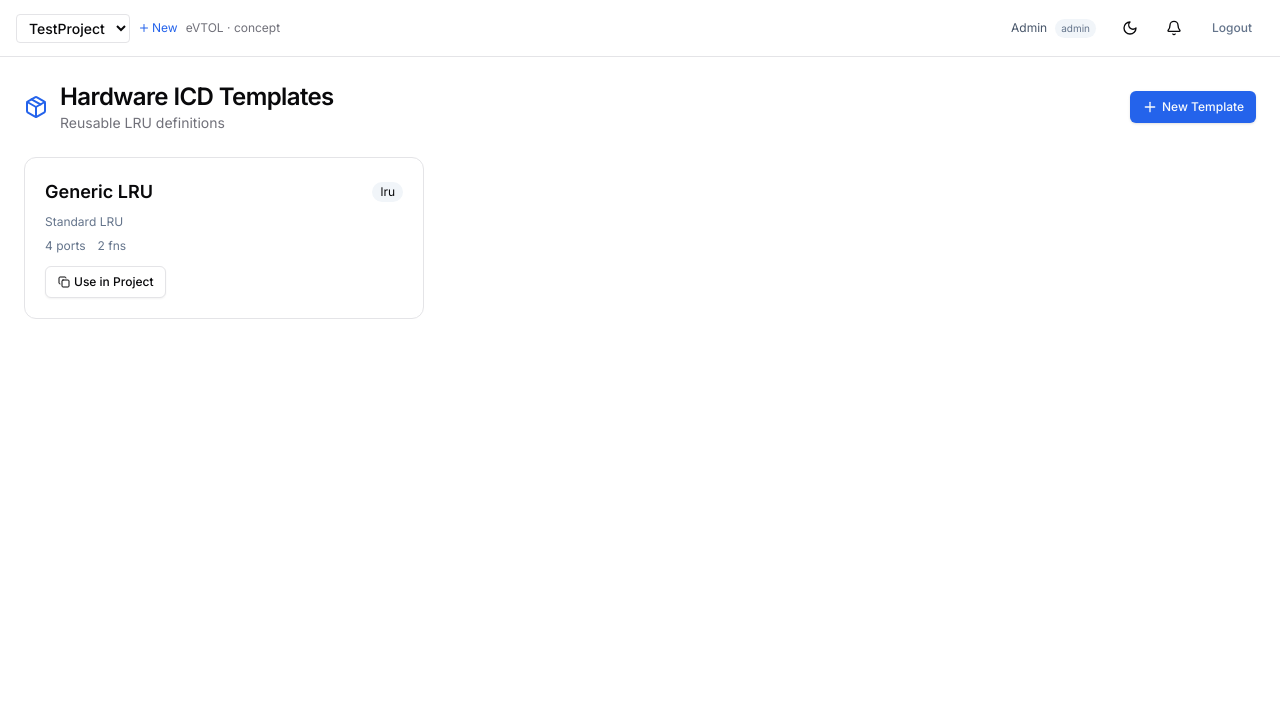
HW Templates Page › New Template button toggles form
Step 1. Click the button "New Template" → point(1193, 107), box 1130,91 -> 1256,123
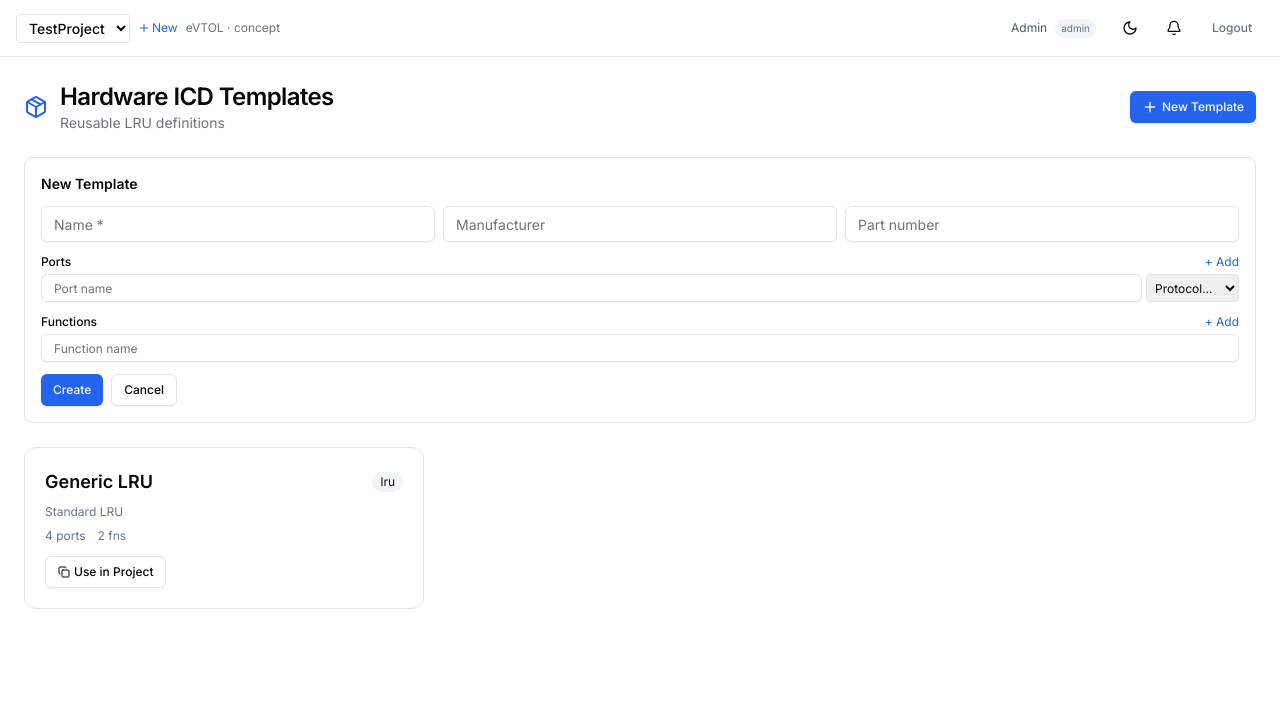
Expected: the field with placeholder "Name *" is shown, 41,206 -> 435,242
Expected: the button "Create" is shown, 41,374 -> 103,406
